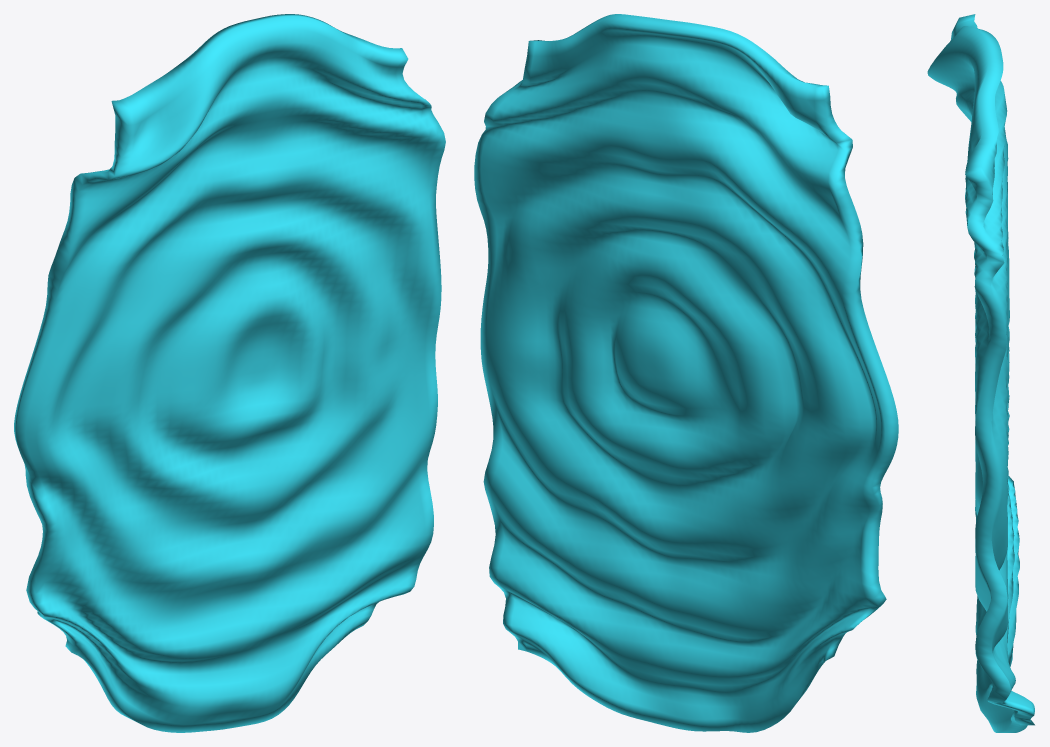
File: PORTALIIII.fbx
3 views of the same model, side by side, from view 1: azimuth 30°, elevation 25°; view 2: azimuth 150°, elevation 25°; view 3: azimuth 270°, elevation 25° (orthographic). The views are drawn at different scales.
Parts seen in each view (by area): view 1: Plane.004; view 2: Plane.004; view 3: Plane.004.
Part boxes in pixels (x1,y1,x2,y2): Plane.004: [14, 14, 445, 732]; Plane.004: [474, 14, 898, 732]; Plane.004: [927, 14, 1034, 732].
Size of the model in its own units: 144 by 228 by 33.11.
